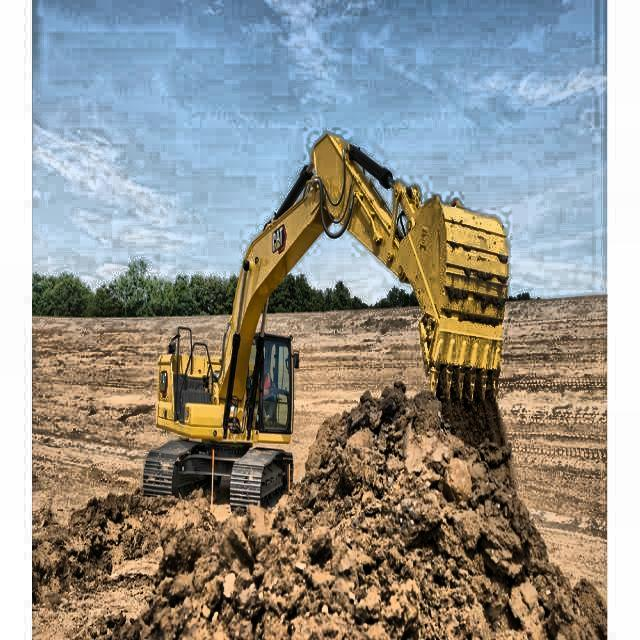excavator: (139, 130, 509, 510)
